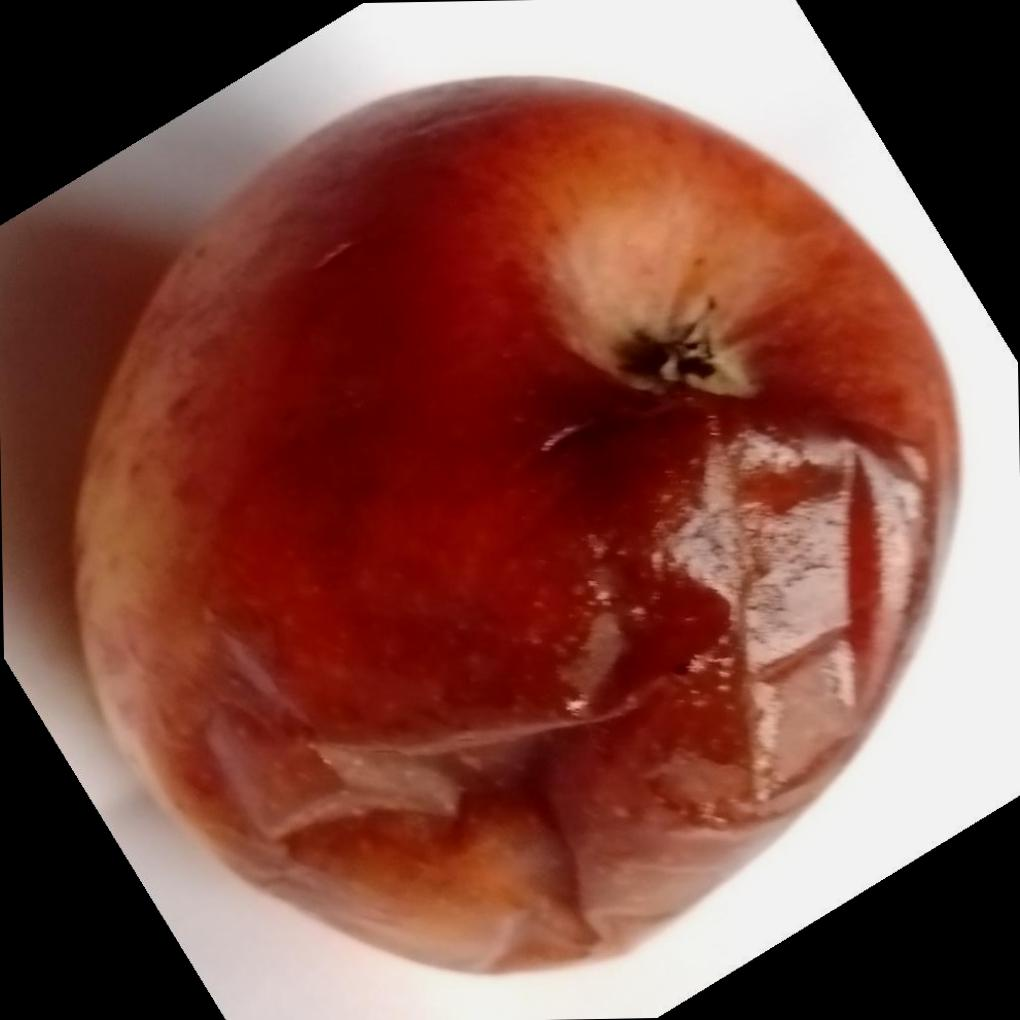FreshOrange: (65, 70, 960, 977)
